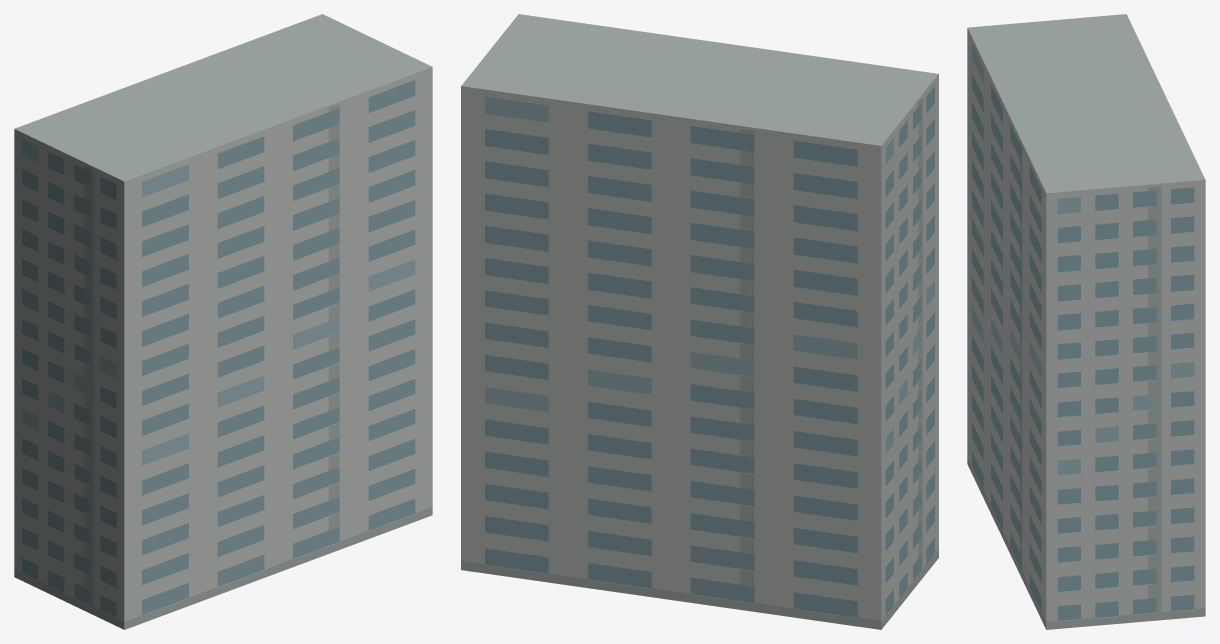
File: residential-0e8bf8ad-4096-4010-8038-0f68bff077e2.glb
The picture shows the model from 3 angles, left to right: view 1: azimuth 30°, elevation 25°; view 2: azimuth 150°, elevation 25°; view 3: azimuth 270°, elevation 25°; orthographic projection. The views are drawn at different scales.
Parts seen in each view (by area): view 1: residential-0e8bf8ad-4096-4010-8038-0f68bff077e2.tmp; view 2: residential-0e8bf8ad-4096-4010-8038-0f68bff077e2.tmp; view 3: residential-0e8bf8ad-4096-4010-8038-0f68bff077e2.tmp.
Boxes of the visible parts, x1,y1,x2,y2 form: residential-0e8bf8ad-4096-4010-8038-0f68bff077e2.tmp: (14, 14, 432, 629); residential-0e8bf8ad-4096-4010-8038-0f68bff077e2.tmp: (461, 14, 938, 629); residential-0e8bf8ad-4096-4010-8038-0f68bff077e2.tmp: (967, 14, 1205, 629).
Bounding box in the file's own units: 36.12 × 41 × 20.27.
